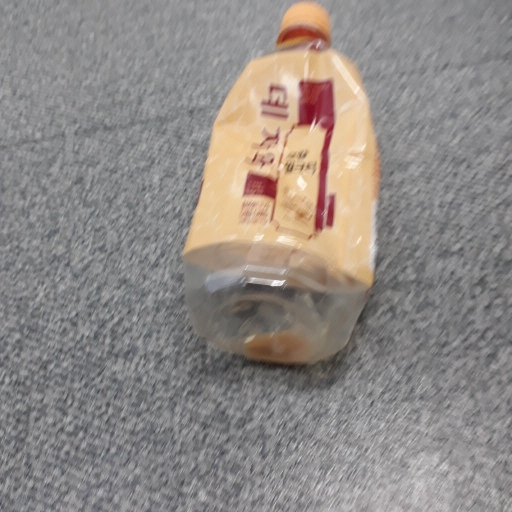Plastic_0: (181, 2, 380, 366)
